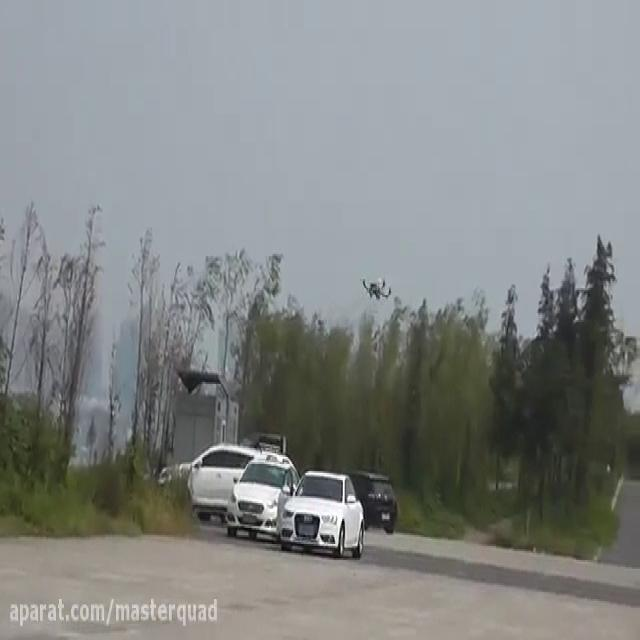drone: (359, 270, 393, 300)
